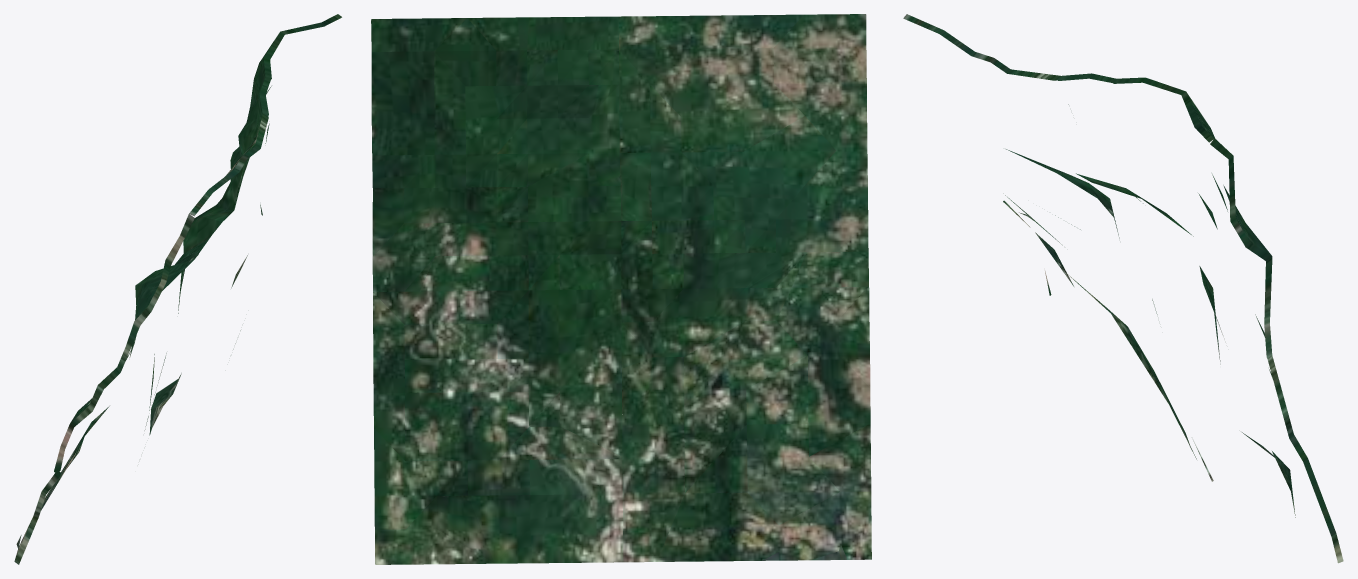
3 renders of one model, left to right at view 1: azimuth 30°, elevation 25°; view 2: azimuth 150°, elevation 25°; view 3: azimuth 270°, elevation 25°, orthographic. The views are drawn at different scales.
Bounding box in the file's own units: 2268 × 2441 × 2077.
1 material, 1 textured.
